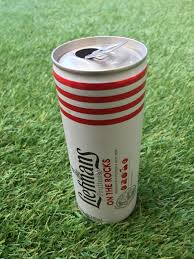can: (50, 35, 149, 225)
